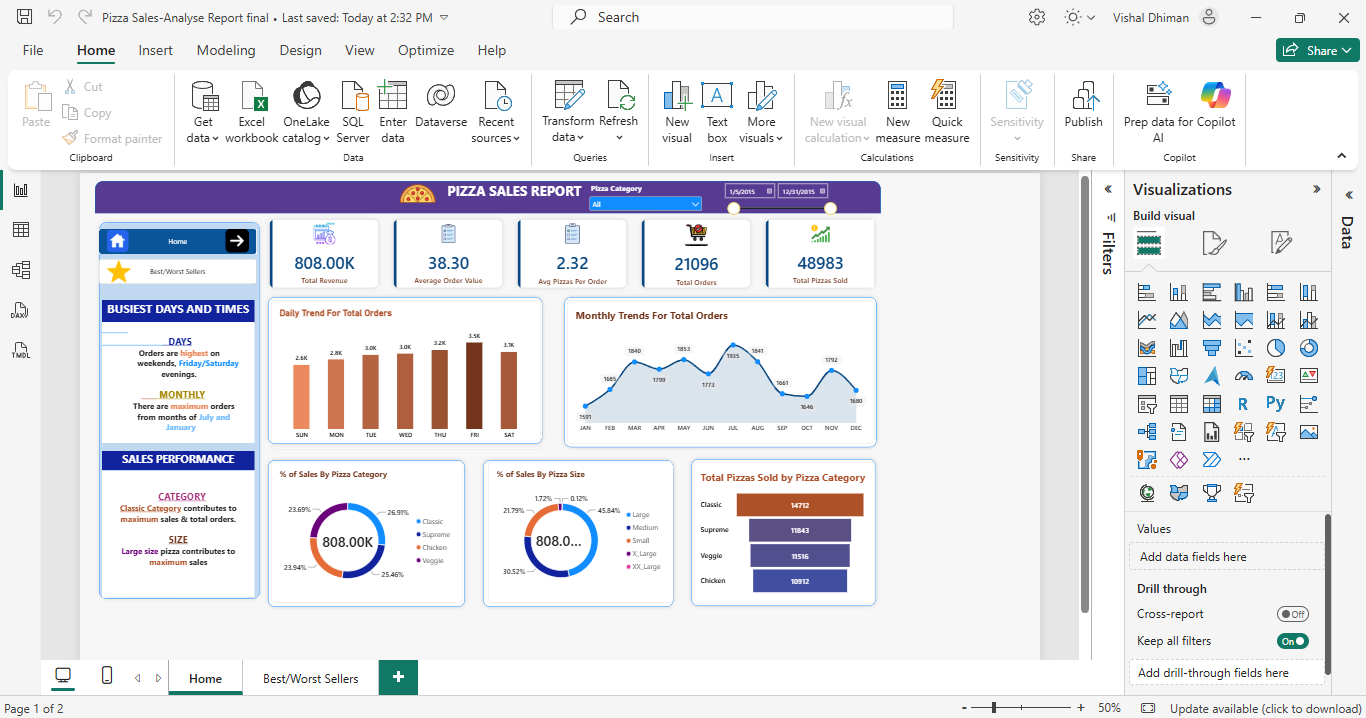

Layout of this report page (visuals, bound fields, positions):
{"tool":"powerbi","page":{"name":"Home","canvas":[1920,1080],"ordinal":0},"visuals":[{"type":"shape","box":[30,90,338.3,770],"z":0},{"type":"cardVisual","fields":{"Data":["pizza_sales.Total Revenue","pizza_sales.Average Order Value","pizza_sales.Avg Pizzas Per Order","pizza_sales.Total Orers","pizza_sales.Total Pizza Sold"]},"box":[368.3,81.7,1232.9,159],"z":1000},{"type":"shape","box":[30,16.7,1571.7,65],"z":2000},{"type":"textbox","box":[723.3,16.7,290,56.7],"z":3000},{"type":"image","box":[628.3,0,94.8,81.6],"z":4000},{"type":"shape","box":[368.3,240,565,310],"z":5000},{"type":"columnChart","title":"Daily Trend For Total Orders","fields":{"Category":["pizza_sales.Order Day"],"Y":["pizza_sales.Total Orders"]},"box":[381.7,253.3,538.8,300],"z":6000},{"type":"shape","box":[960,240,641.7,316.7],"z":7000},{"type":"areaChart","title":"Monthly Trends For Total Orders","fields":{"Category":["pizza_sales.Order Month"],"Y":["pizza_sales.Total Orders"]},"box":[973.3,253.3,615,286.7],"z":8000},{"type":"shape","box":[368.6,565.7,410,310],"z":9000},{"type":"shape","box":[798,566,397.1,310],"z":10000},{"type":"shape","box":[1214,564,386.2,310],"z":11000},{"type":"donutChart","title":"% of Sales By Pizza Category","fields":{"Category":["pizza_sales.pizza_category"],"Y":["pizza_sales.Total Revenue"]},"box":[382.2,576.7,384.4,283.3],"z":12000},{"type":"donutChart","title":"% of Sales By Pizza Size","fields":{"Category":["pizza_sales.pizza_size"],"Y":["pizza_sales.Total Revenue"]},"box":[816,576,371.4,282.9],"z":13000},{"type":"funnel","title":"Total Pizzas Sold by Pizza Category","fields":{"Category":["pizza_sales.pizza_category"],"Y":["pizza_sales.Total Pizzas Sold"]},"box":[1224,578,365,282.5],"z":14000},{"type":"textbox","box":[43.3,253.3,305,45],"z":15000},{"type":"textbox","box":[43.3,298.3,305,241.7],"z":16000},{"type":"textbox","box":[43.3,556.7,305,38.3],"z":17000},{"type":"textbox","box":[43.3,595,305,253.3],"z":18000},{"type":"slicer","fields":{"Values":["pizza_sales.pizza_category"]},"box":[1013.3,20,235,60],"z":19000},{"type":"slicer","fields":{"Values":["pizza_sales.order_date"]},"box":[1281.7,16.7,235,70],"z":20000},{"type":"pageNavigator","box":[37.1,111.4,315.7,50],"z":21000},{"type":"pageNavigator","box":[37.1,171.4,315.7,50],"z":22000},{"type":"image","box":[42.9,114.3,65.7,44.3],"z":23000},{"type":"image","box":[280,111.4,68.6,47.1],"z":24000},{"type":"image","box":[45.7,171.4,62.9,54.3],"z":25000}]}

Visuals, with their boxes on the page's 1920x1080 design canvas (x1, y1, x2, y2). These are canvas units, not pixel positions in the 1366x718 screenshot, which may show the page scaled, cropped or inside an application window:
shape: bbox=[30, 90, 368, 860]
cardVisual - pizza_sales.Total Revenue x pizza_sales.Average Order Value: bbox=[368, 82, 1601, 241]
shape: bbox=[30, 17, 1602, 82]
textbox: bbox=[723, 17, 1013, 73]
image: bbox=[628, 0, 723, 82]
shape: bbox=[368, 240, 933, 550]
"Daily Trend For Total Orders" columnChart: bbox=[382, 253, 920, 553]
shape: bbox=[960, 240, 1602, 557]
"Monthly Trends For Total Orders" areaChart: bbox=[973, 253, 1588, 540]
shape: bbox=[369, 566, 779, 876]
shape: bbox=[798, 566, 1195, 876]
shape: bbox=[1214, 564, 1600, 874]
"% of Sales By Pizza Category" donutChart: bbox=[382, 577, 767, 860]
"% of Sales By Pizza Size" donutChart: bbox=[816, 576, 1187, 859]
"Total Pizzas Sold by Pizza Category" funnel: bbox=[1224, 578, 1589, 860]
textbox: bbox=[43, 253, 348, 298]
textbox: bbox=[43, 298, 348, 540]
textbox: bbox=[43, 557, 348, 595]
textbox: bbox=[43, 595, 348, 848]
slicer - pizza_sales.pizza_category: bbox=[1013, 20, 1248, 80]
slicer - pizza_sales.order_date: bbox=[1282, 17, 1517, 87]
pageNavigator: bbox=[37, 111, 353, 161]
pageNavigator: bbox=[37, 171, 353, 221]
image: bbox=[43, 114, 109, 159]
image: bbox=[280, 111, 349, 158]
image: bbox=[46, 171, 109, 226]
